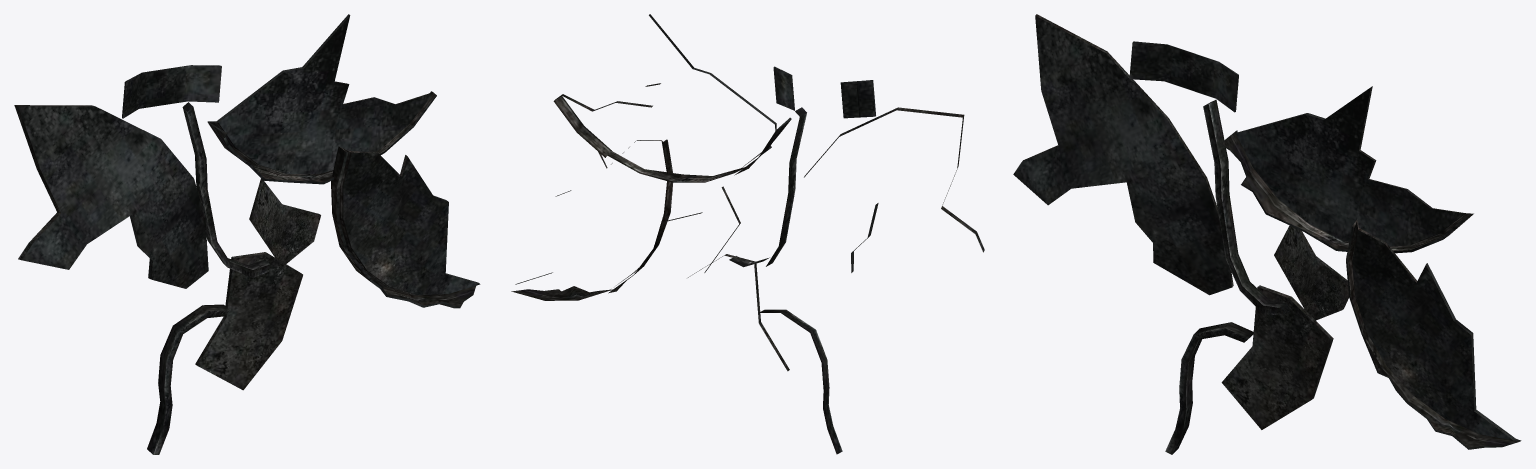
File: prop_barrel_piece2.glb
The picture shows the model from 3 angles, left to right: view 1: azimuth 30°, elevation 25°; view 2: azimuth 150°, elevation 25°; view 3: azimuth 330°, elevation 25°; orthographic projection. The views are drawn at different scales.
Bounding box in the file's own units: 49.27 × 39.73 × 4.01.
Materials: 1 (1 with a texture image).
